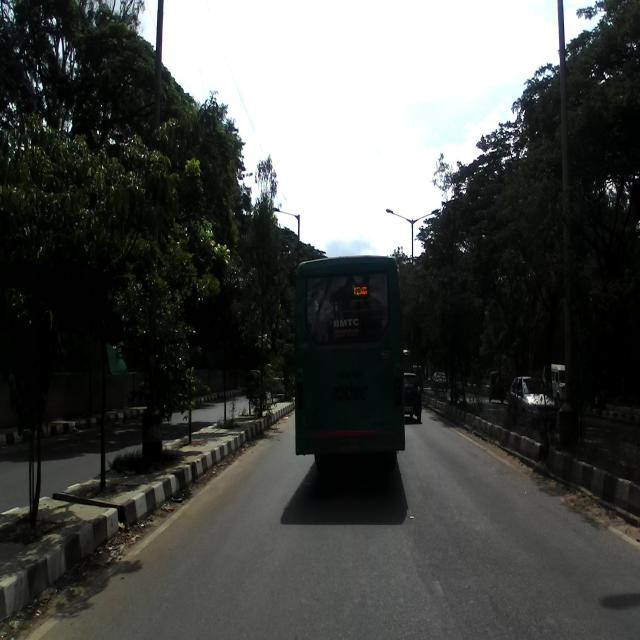bus: (292, 252, 405, 479)
car: (508, 374, 554, 420)
